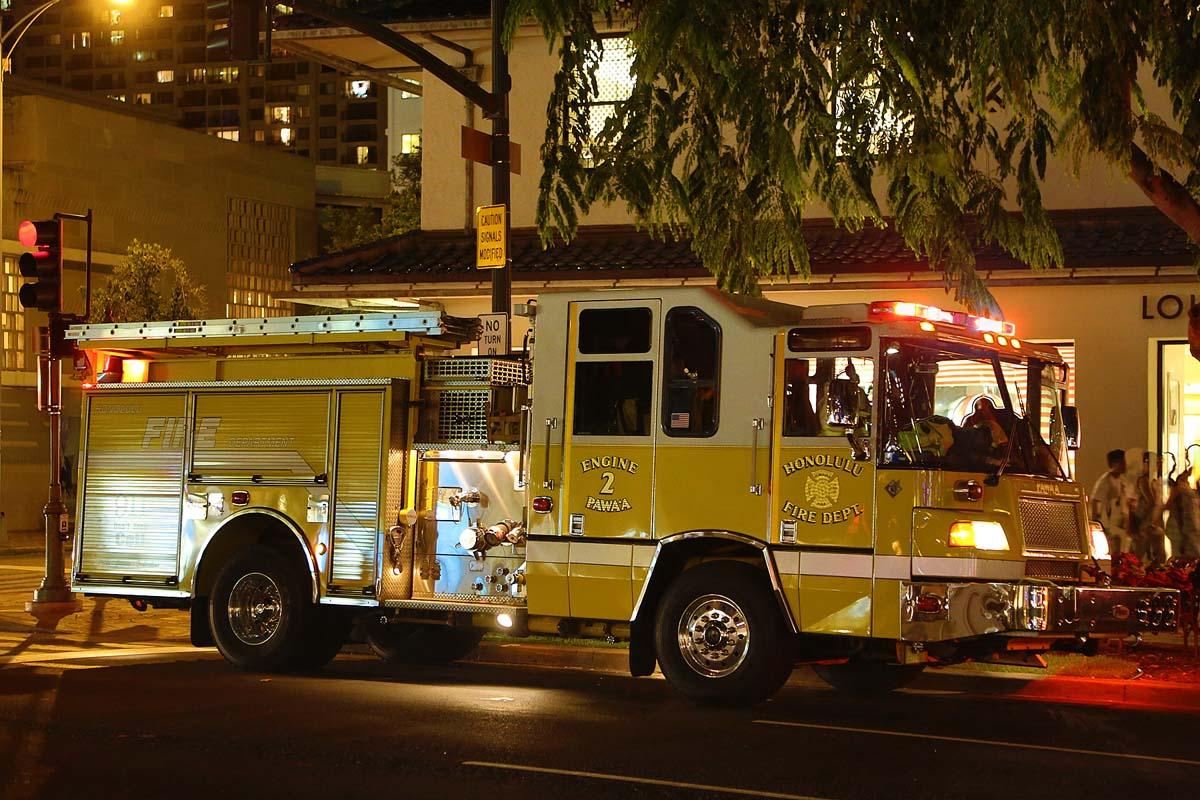firetruck_on: (57, 282, 1178, 712)
